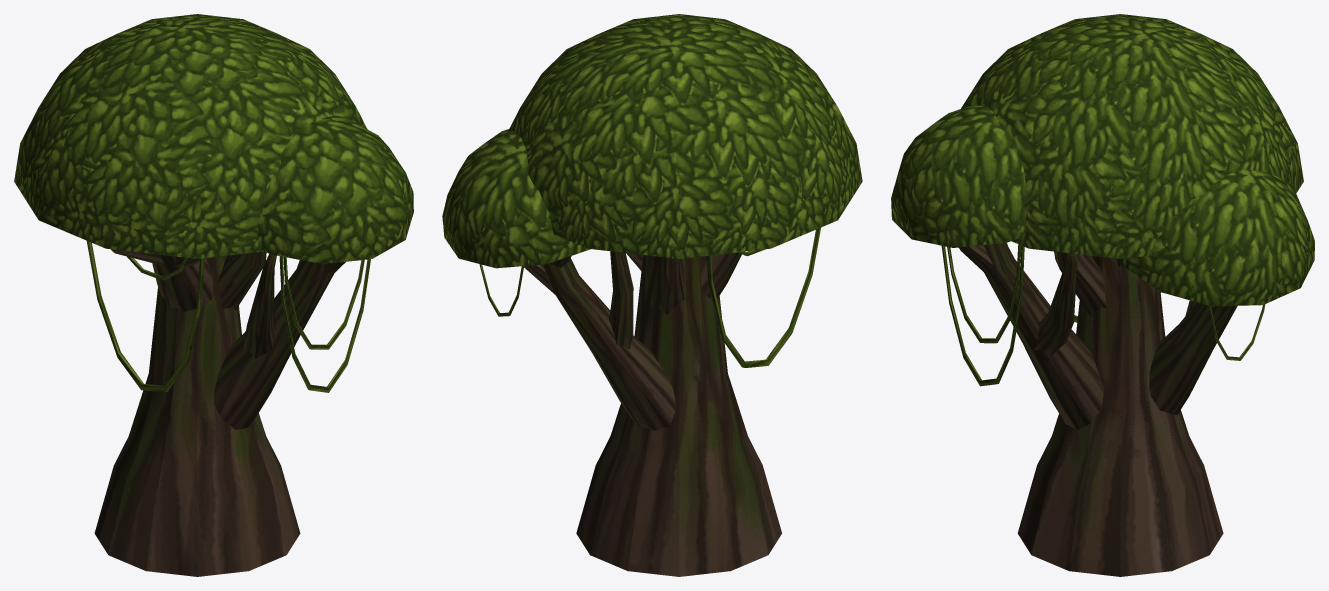
The model's file is OldTreeLarge_Geo.fbx.
3 renders of one model, left to right at view 1: azimuth 30°, elevation 25°; view 2: azimuth 150°, elevation 25°; view 3: azimuth 270°, elevation 25°, orthographic.
Parts seen in each view (by area): view 1: OldTreeLarge_Geo; view 2: OldTreeLarge_Geo; view 3: OldTreeLarge_Geo.
Part boxes in pixels (<box>): OldTreeLarge_Geo: <box>14,14,413,576</box>; OldTreeLarge_Geo: <box>442,14,862,576</box>; OldTreeLarge_Geo: <box>891,14,1314,576</box>.
Size of the model in its own units: 352 by 501 by 385.
